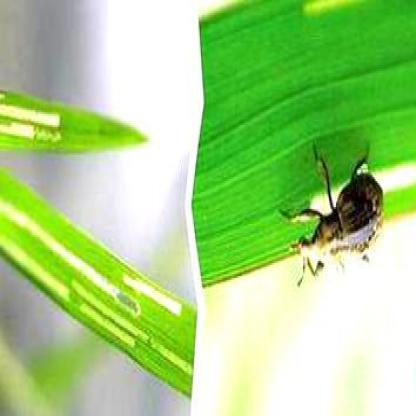rice-bug: (292, 151, 388, 274)
